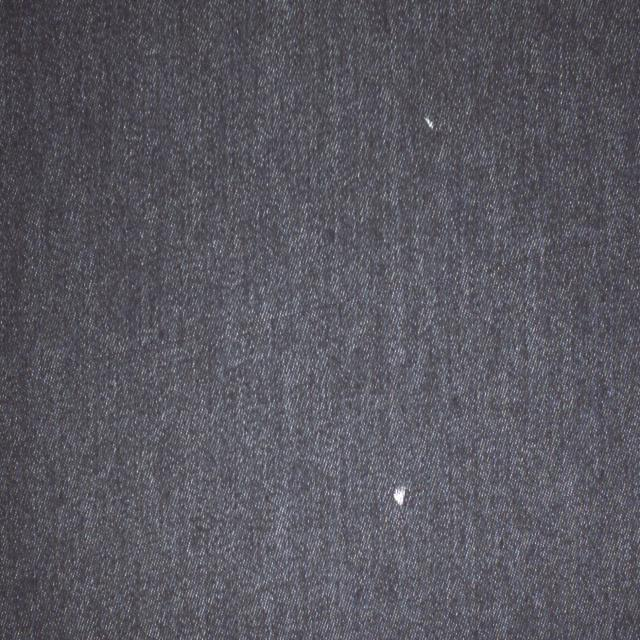Knot: (394, 487, 407, 506)
